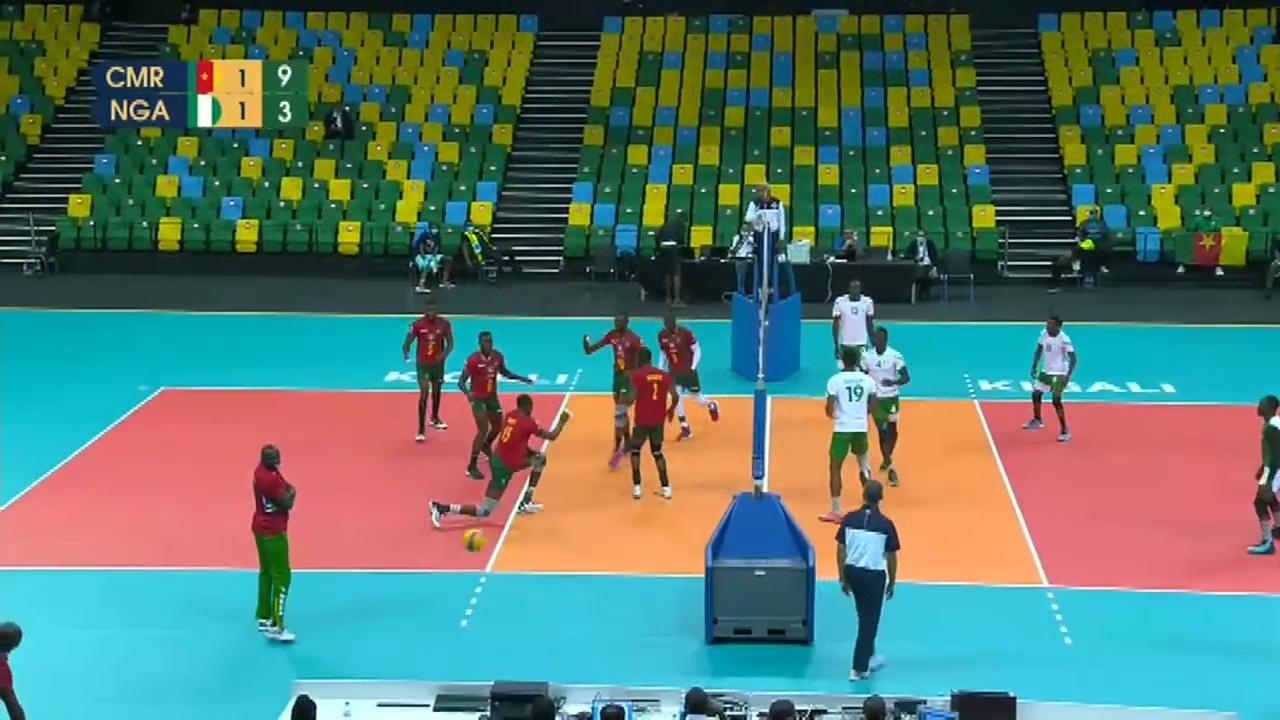player: (439, 394, 561, 529), (584, 305, 651, 458), (624, 349, 687, 511), (657, 299, 724, 444), (823, 348, 880, 515), (1237, 391, 1280, 573), (861, 327, 910, 484), (458, 331, 509, 479), (399, 303, 452, 438), (830, 279, 875, 422), (1029, 315, 1077, 437)
refree: (835, 486, 902, 676), (736, 179, 796, 289)
